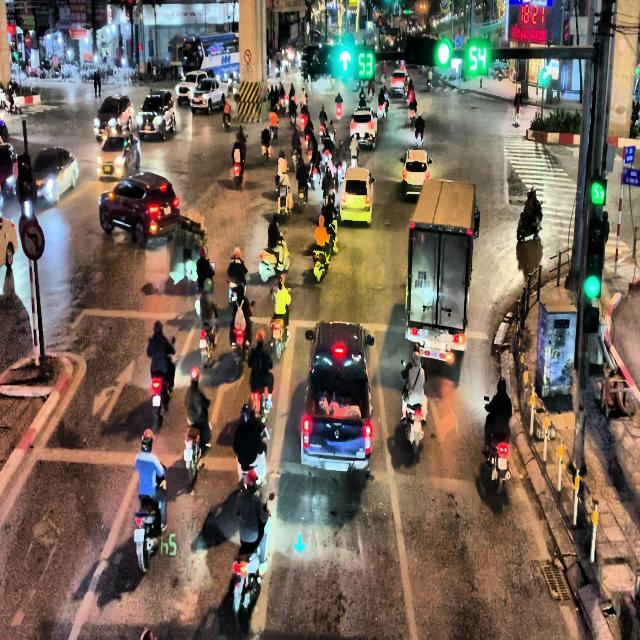lisence_plate: (320, 458, 350, 473), (416, 267, 430, 298), (426, 340, 444, 349), (359, 130, 366, 139), (351, 200, 359, 207)
